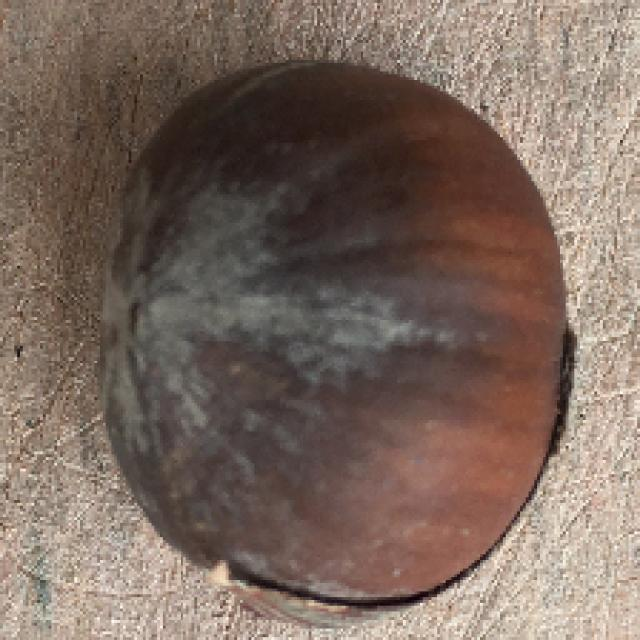damagedHazelnut: (97, 57, 580, 618)
